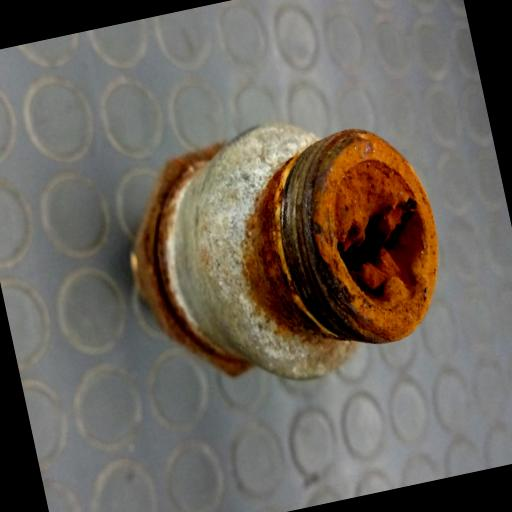corrosion: (233, 111, 471, 373), (118, 141, 252, 386), (225, 159, 322, 345)
